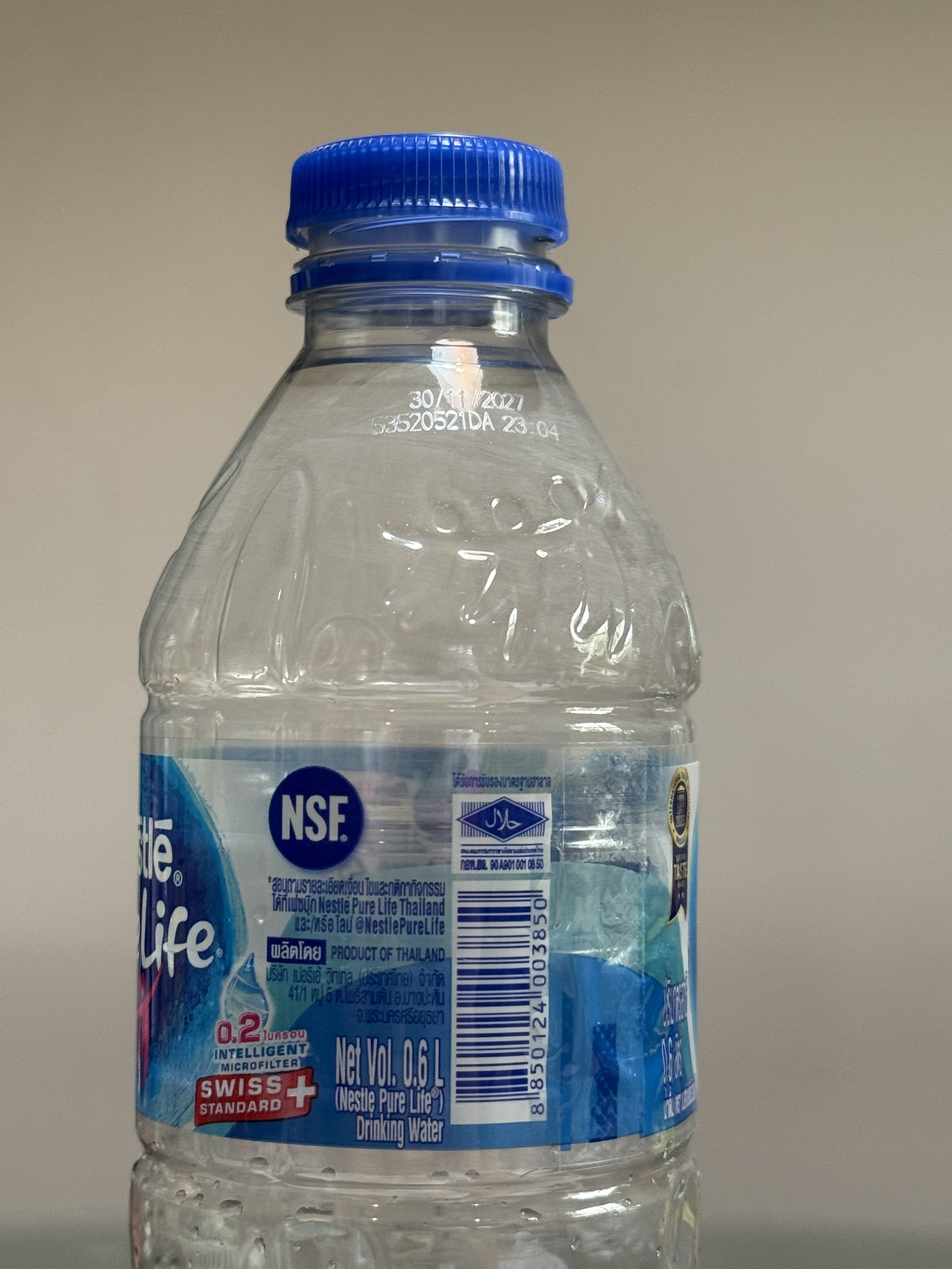half_cap: (271, 124, 582, 308)
